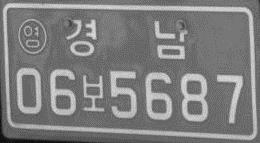0: (15, 66, 43, 116)
5: (108, 68, 138, 119)
6: (144, 70, 174, 121), (49, 67, 77, 116)
7: (214, 72, 244, 125)
8: (179, 72, 210, 123)
경남_D: (62, 16, 189, 62)
보: (81, 72, 107, 113)
영: (16, 16, 48, 55)
